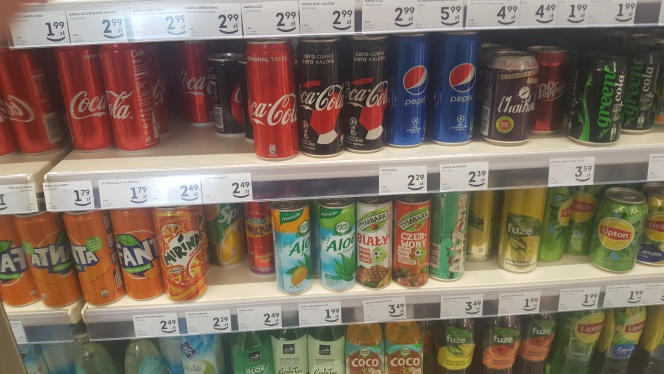cola: (2, 43, 62, 149), (49, 47, 110, 150), (246, 37, 297, 160), (244, 35, 295, 158), (100, 43, 158, 148), (184, 41, 207, 125)
colazero: (343, 33, 390, 156), (300, 35, 340, 157), (205, 53, 249, 134)
pepsi: (433, 25, 482, 146), (391, 30, 432, 155)
